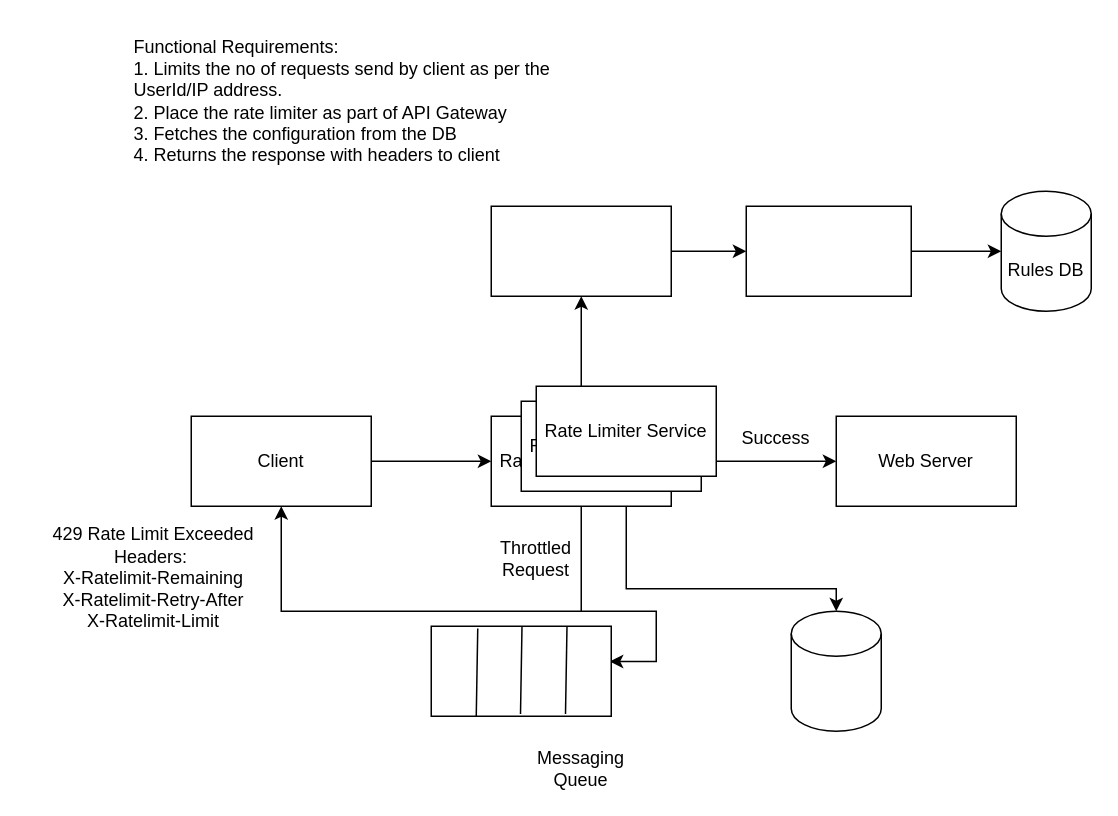
The diagram is 1118 pixels wide and 816 high, and some of its shapes have lost their labels. The centre of each missing label's shape, as x and y in pixels:
"Config Rules Cache" goes at (580,250).
"Redis Counter/ TimeStamp" goes at (835,670).
"Workers" goes at (828,250).
